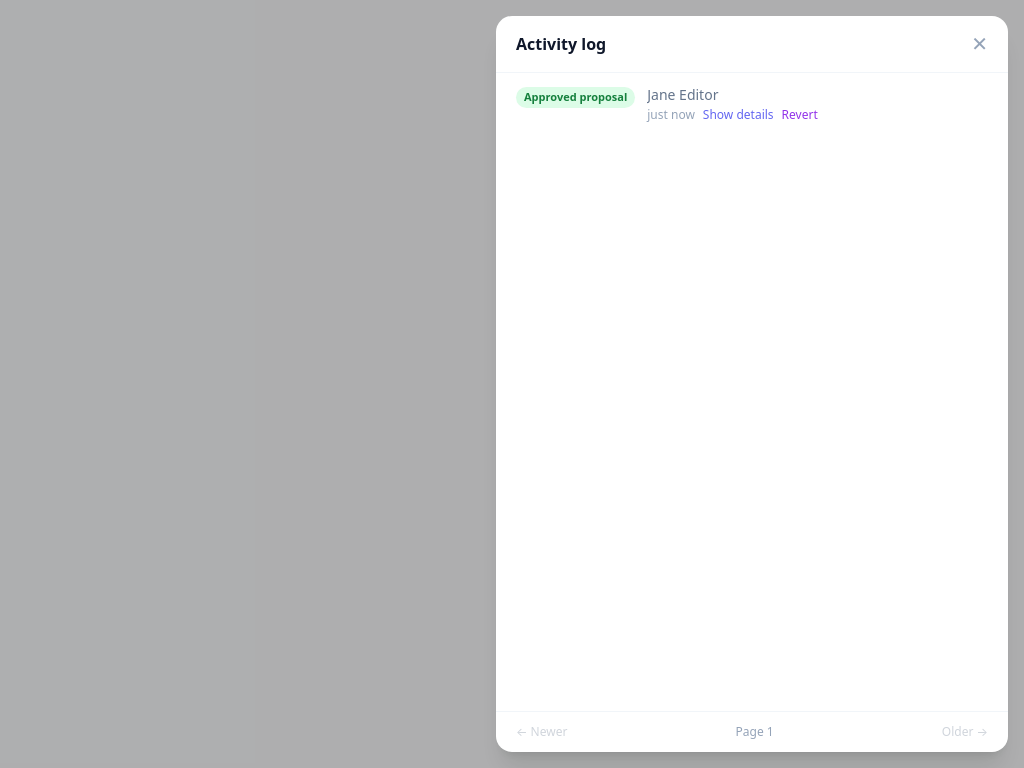
Scenario: AuditLogModal — revert an approved change request › reverts on confirm and refreshes the log to show the new REVERT_CHANGE entry
What coordinates should you click on to do the following:
click the button "Revert"
I would click on:
 (800, 115)
Its box is [782, 107, 818, 123].
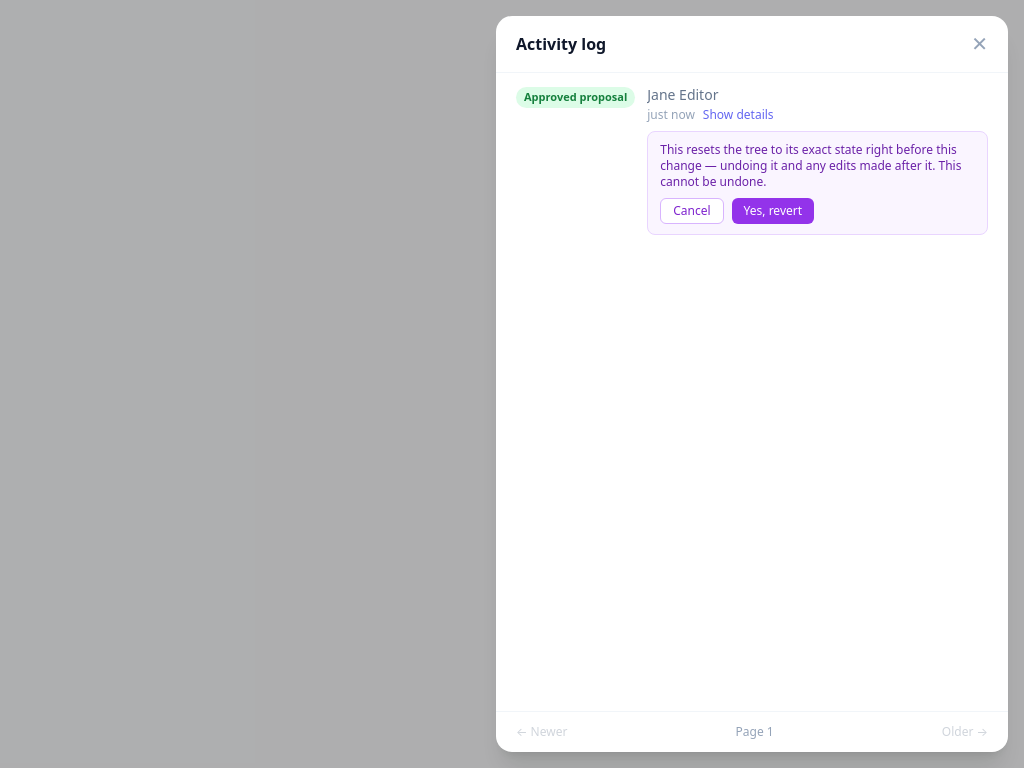
What coordinates should you click on to do the following:
click the button "Yes, revert"
I would click on:
 (773, 211)
Its box is [732, 198, 814, 224].
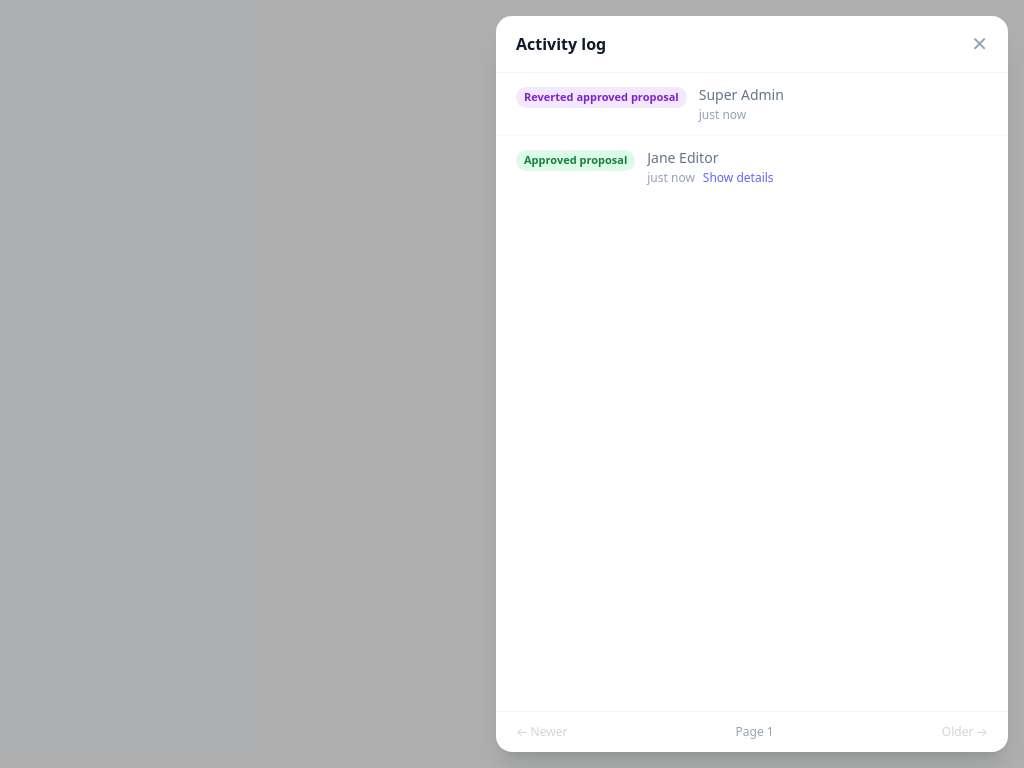
Check: the text "Reverted approved proposal" is shown, box [516, 87, 687, 108]
